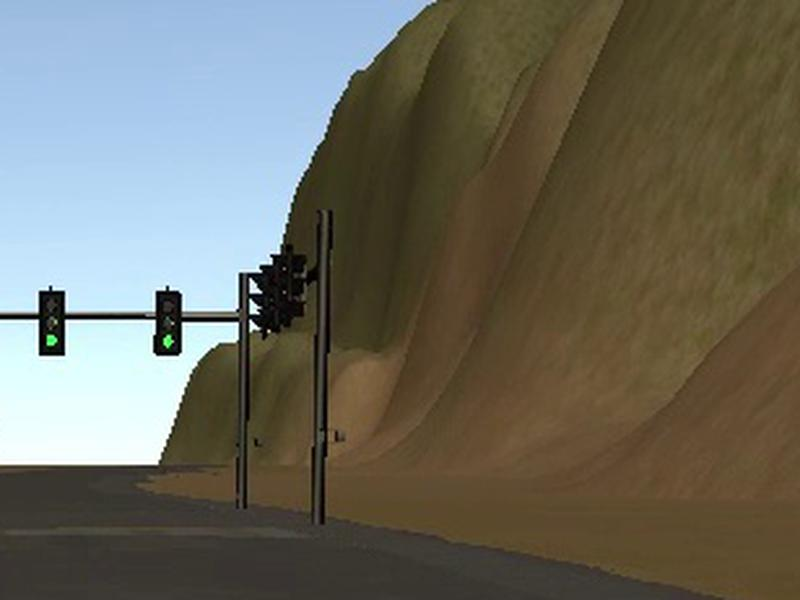Green: (153, 291, 181, 356), (39, 291, 64, 355)
